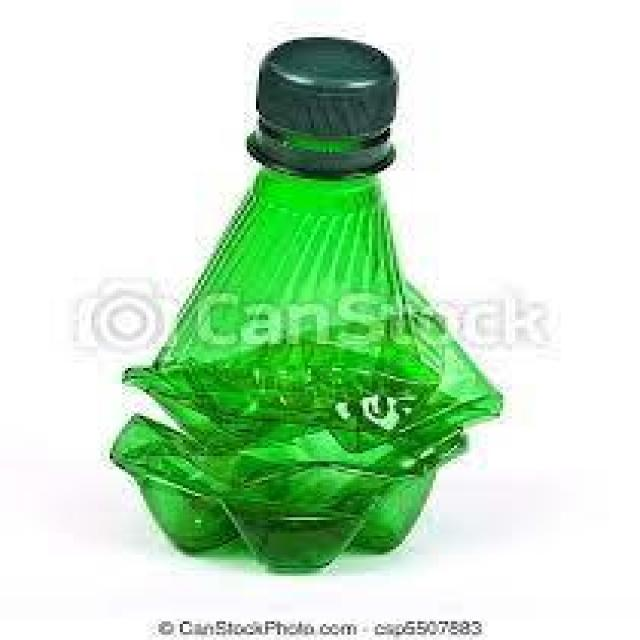chai: (111, 38, 501, 571)
